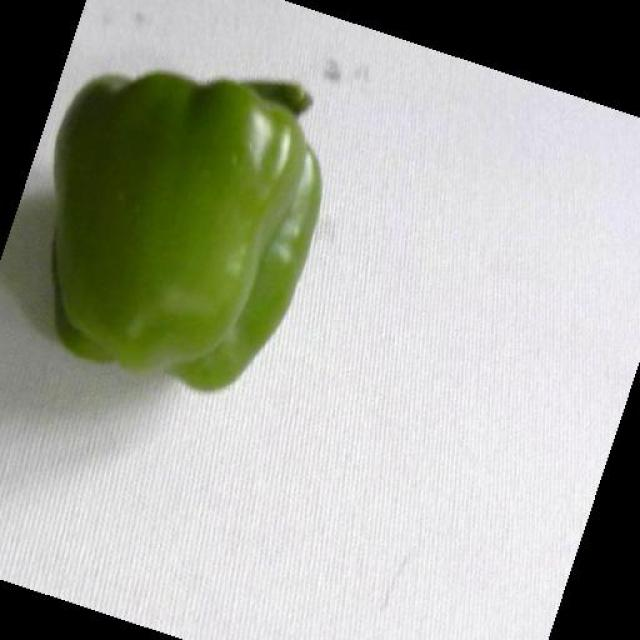Fresh_Capsicum: (71, 78, 341, 357)
